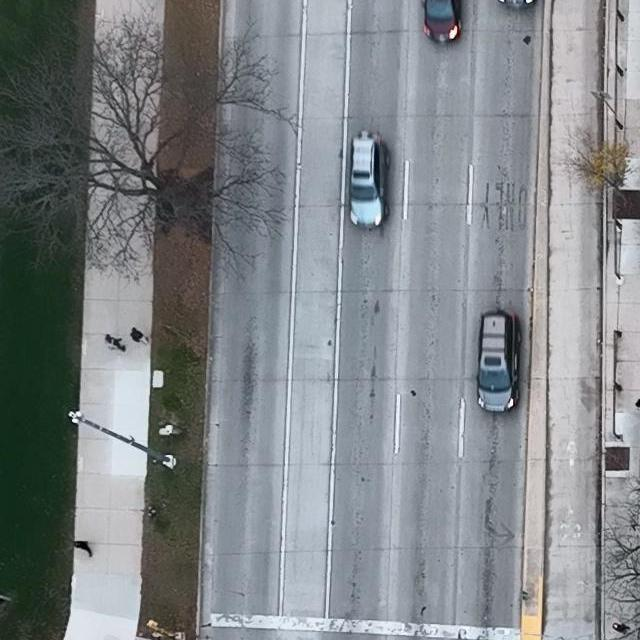car: (476, 310, 522, 413), (349, 130, 389, 230), (422, 0, 461, 43)
